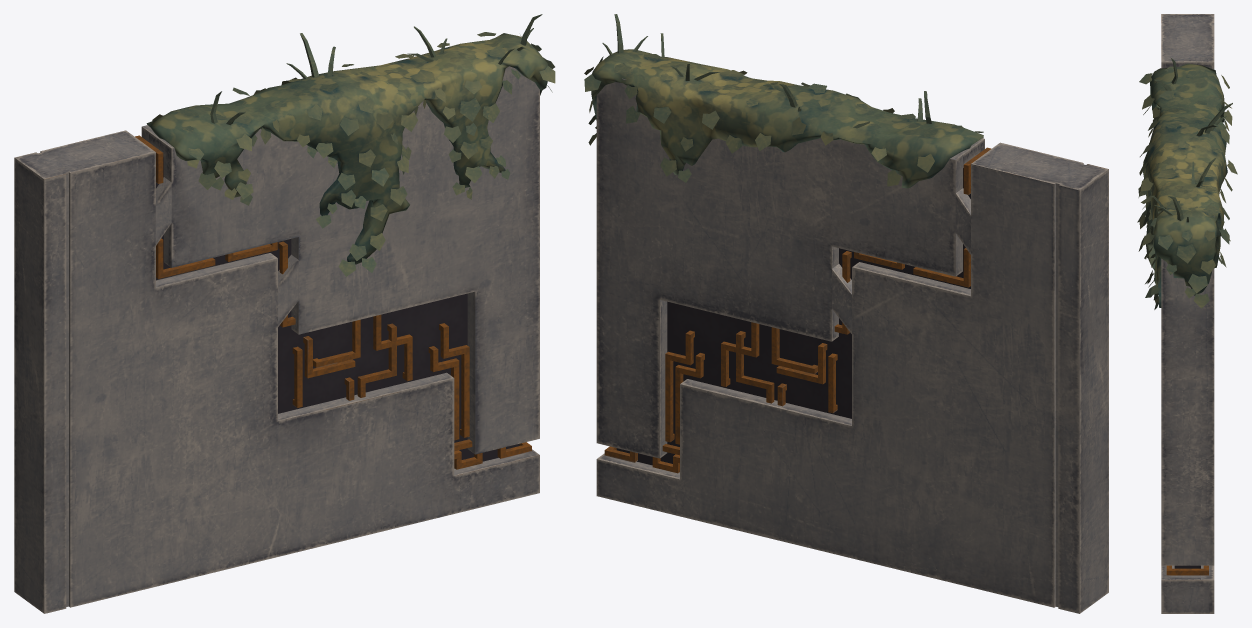
File: PH_Wall.fbx
3 views of the same model, side by side, from view 1: azimuth 30°, elevation 25°; view 2: azimuth 150°, elevation 25°; view 3: azimuth 270°, elevation 25° (orthographic). The views are drawn at different scales.
Visible parts, largest first — view 1: Wall1, Moss, Leaves, Wire, Grass; view 2: Wall1, Moss, Wire, Leaves, Grass; view 3: Wall1, Moss, Leaves, Grass, Wire.
Boxes of the visible parts, left/top/right/bottom form: Wall1: left=14, top=66, right=539, bottom=613; Moss: left=146, top=33, right=547, bottom=264; Leaves: left=152, top=32, right=555, bottom=276; Wire: left=135, top=135, right=531, bottom=469; Grass: left=210, top=14, right=542, bottom=125; Wall1: left=596, top=78, right=1108, bottom=613; Moss: left=591, top=49, right=983, bottom=188; Wire: left=604, top=147, right=991, bottom=473; Leaves: left=584, top=54, right=983, bottom=186; Grass: left=602, top=14, right=931, bottom=123; Wall1: left=1161, top=14, right=1214, bottom=613; Moss: left=1143, top=63, right=1227, bottom=307; Leaves: left=1137, top=66, right=1237, bottom=309; Grass: left=1150, top=58, right=1232, bottom=222; Wire: left=1166, top=565, right=1208, bottom=575.
Bounding box in the file's own units: 99.58 × 88.16 × 18.98.
